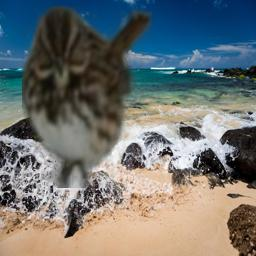Sparrow: (22, 6, 152, 188)
